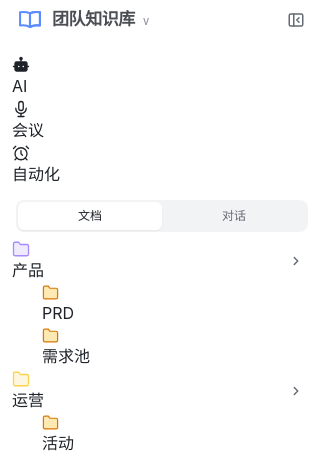
Test: WorkspaceLeftRail (tree) › clicking a role's chevron collapses that role's folders without navigating
This screenshot has width=332, height=470.
Check: the link "活动" is shown, box 42,414 -> 74,453
Click the button named "收起" in the row of "运营": (296, 391) 284,379 -> 308,403
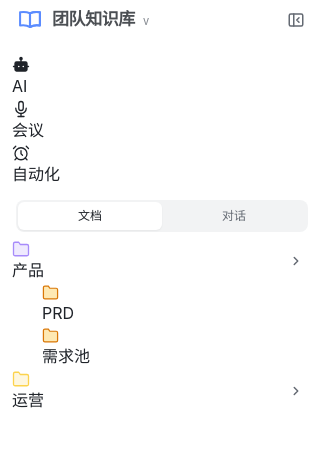
Check: the link "PRD" is shown, box 42,284 -> 74,323
Check: the link "活动" is gone
